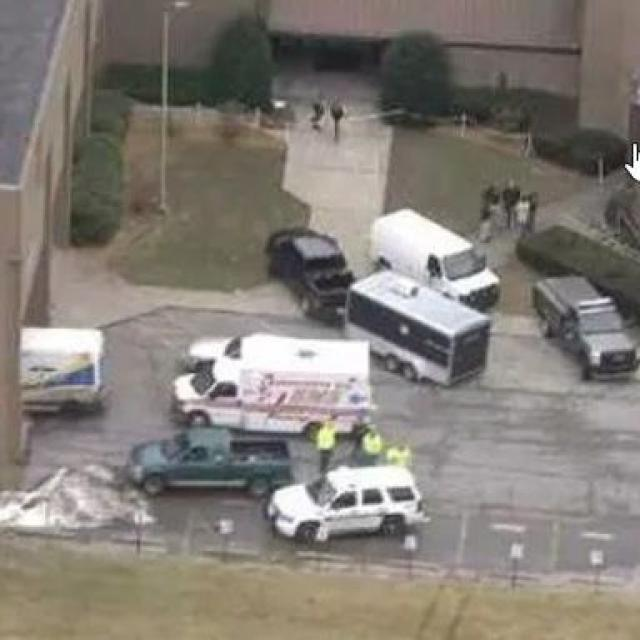traffic_incident: (0, 448, 157, 538)
